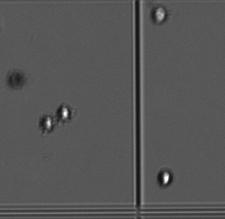Dead Cell: (8, 70, 24, 89)
Living Cell: (56, 104, 73, 123), (151, 6, 167, 24), (157, 170, 173, 188), (39, 115, 54, 133)
